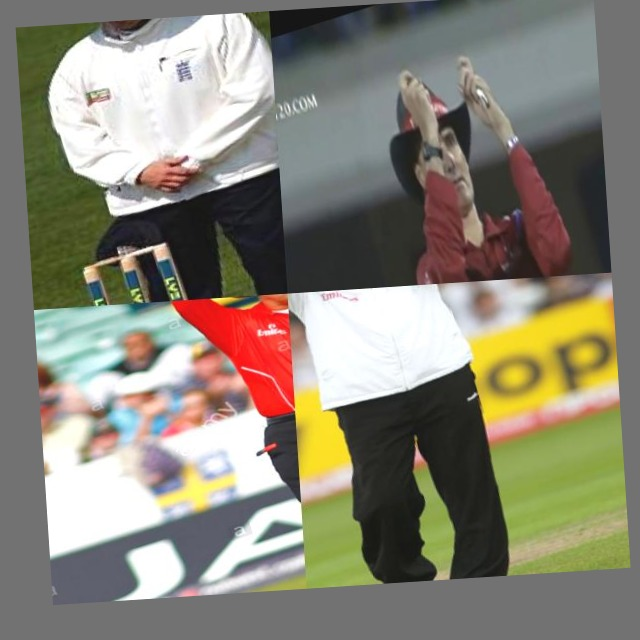No_Action: (16, 11, 287, 310)
Six: (287, 273, 631, 589), (337, 14, 611, 289), (134, 294, 307, 599)
